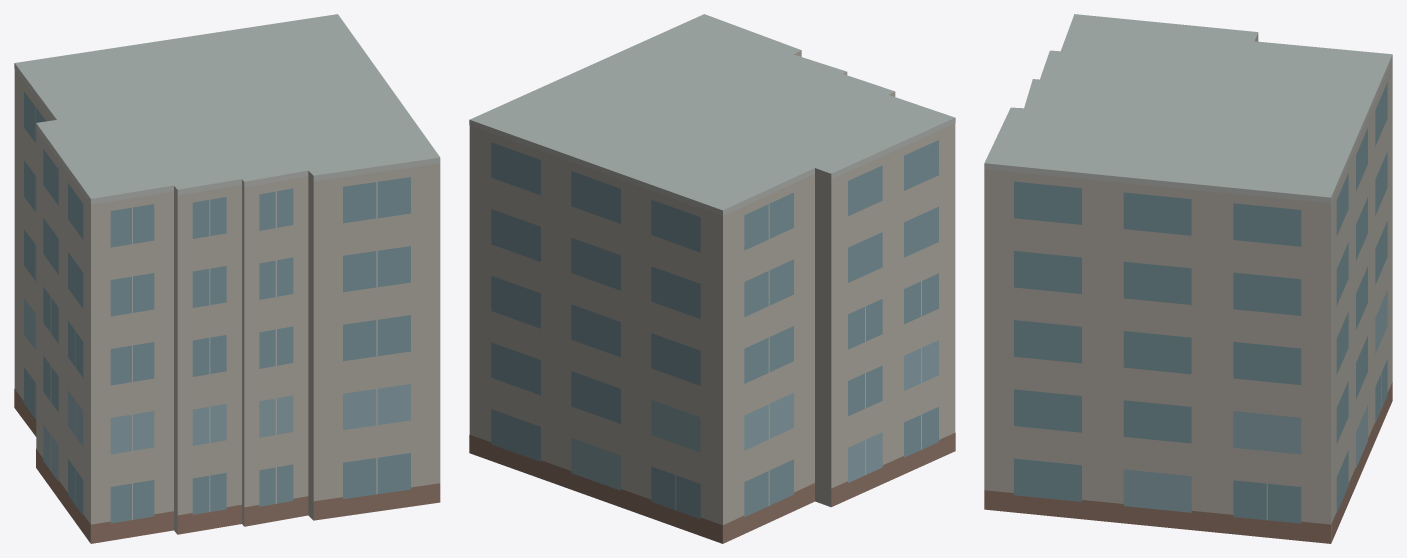
File: survey-upis-32740163.glb
3 views of the same model, side by side, from view 1: azimuth 30°, elevation 25°; view 2: azimuth 150°, elevation 25°; view 3: azimuth 270°, elevation 25° (orthographic). The views are drawn at different scales.
Parts seen in each view (by area): view 1: survey-upis-32740163.tmp; view 2: survey-upis-32740163.tmp; view 3: survey-upis-32740163.tmp.
Part boxes in pixels (x1=…): survey-upis-32740163.tmp: x1=14, y1=14, x2=440, y2=543; survey-upis-32740163.tmp: x1=469, y1=14, x2=955, y2=543; survey-upis-32740163.tmp: x1=984, y1=14, x2=1392, y2=543.
Bounding box in the file's own units: 16.5 × 14.5 × 15.51.
